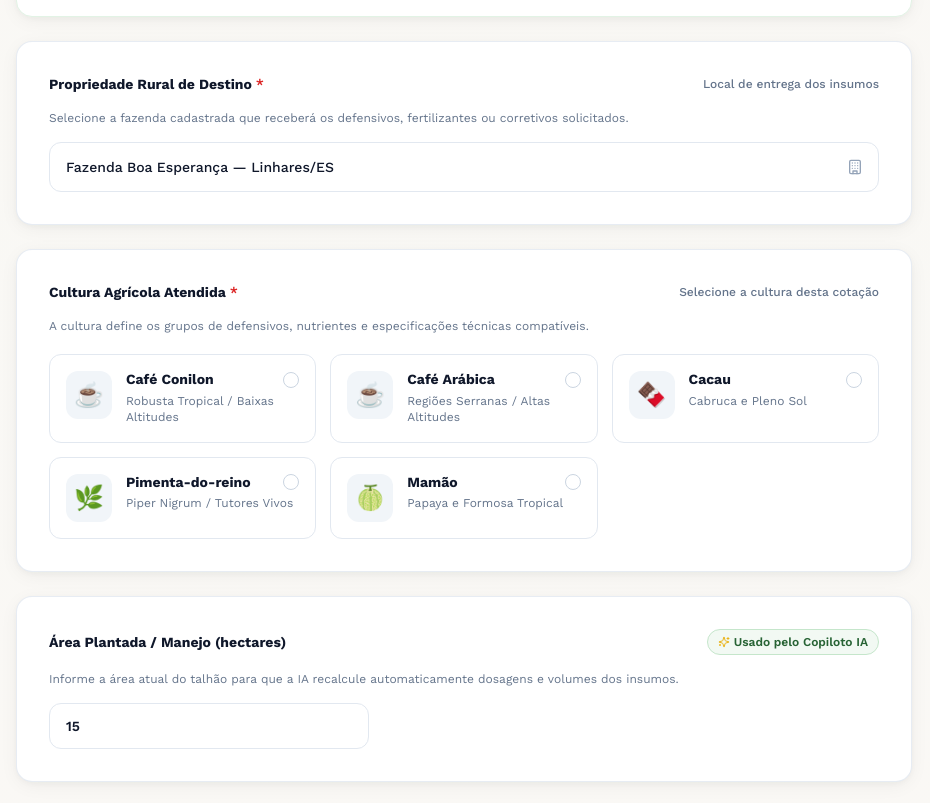
Test: US06 – Wizard de Cotação: Passo 1 – Destino e Cultura › deve bloquear quando a cultura estiver selecionada mas a fazenda estiver desmarcada
The image size is (930, 803).
(page scrolled)
Click the radio button labelled "☕ Café Conilon Robusta Tropical / Baixas Altitudes" at (183, 398), box [49, 354, 316, 442]
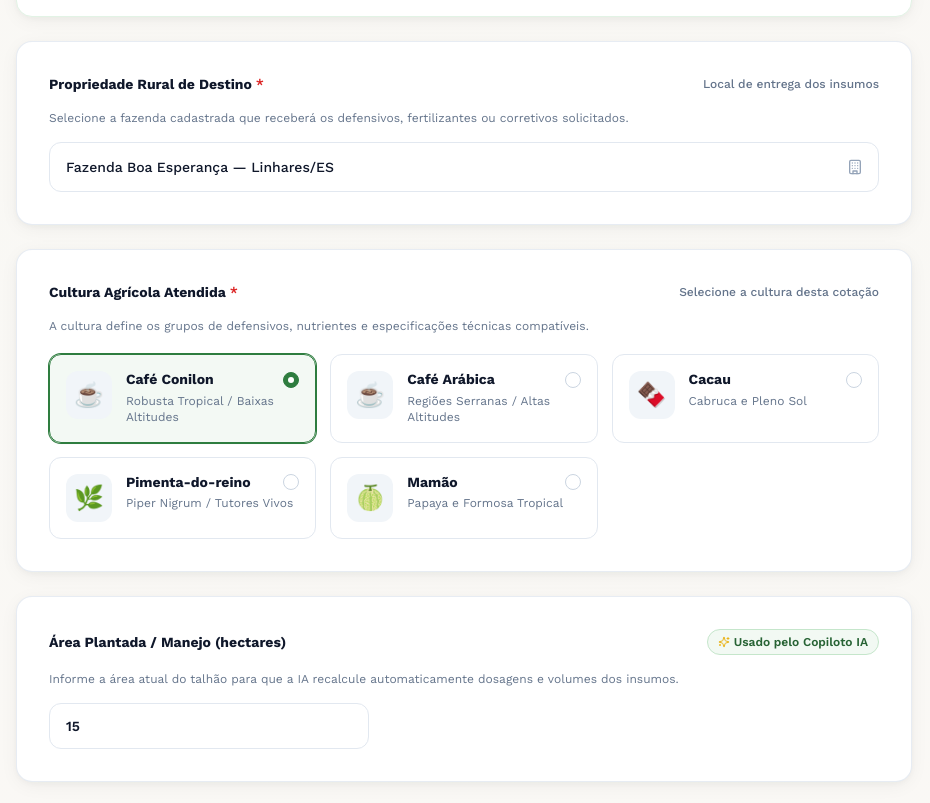
Select "Selecione uma fazenda cadastrada..." in the dropdown labelled "Propriedade Rural de Destino *" at (464, 167), box [49, 142, 879, 192]
(page scrolled)
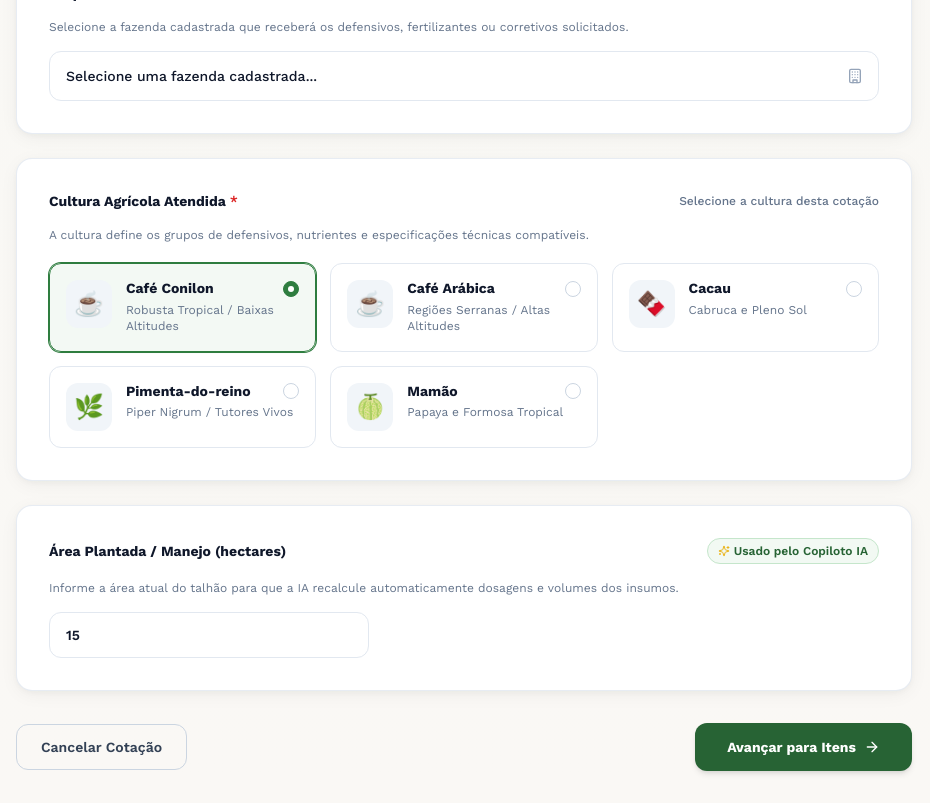
Click the button "Avançar para Itens" at (804, 746), box [695, 722, 912, 770]
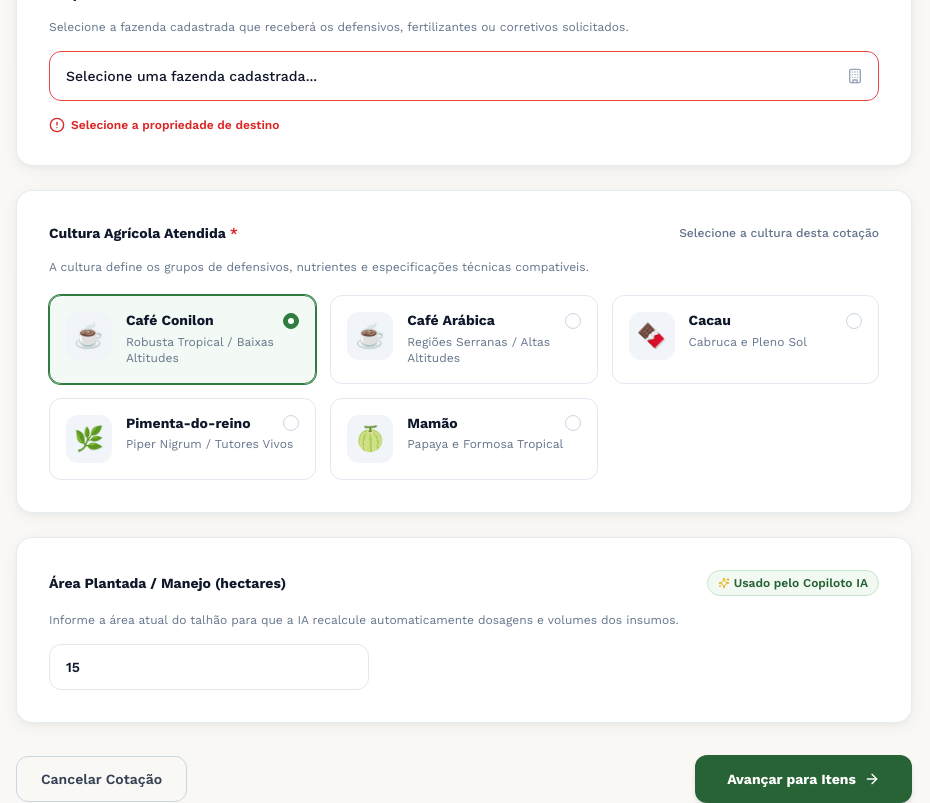
Expected: the text "Selecione a propriedade de destino" is shown, [71, 117, 280, 133]
Note: Ao selecionar a fazenda novamente, o erro inline deve sumir
Select "Fazenda Boa Esperança — Linhares/ES" in the dropdown labelled "Propriedade Rural de Destino *" at (464, 76), box [49, 51, 879, 101]
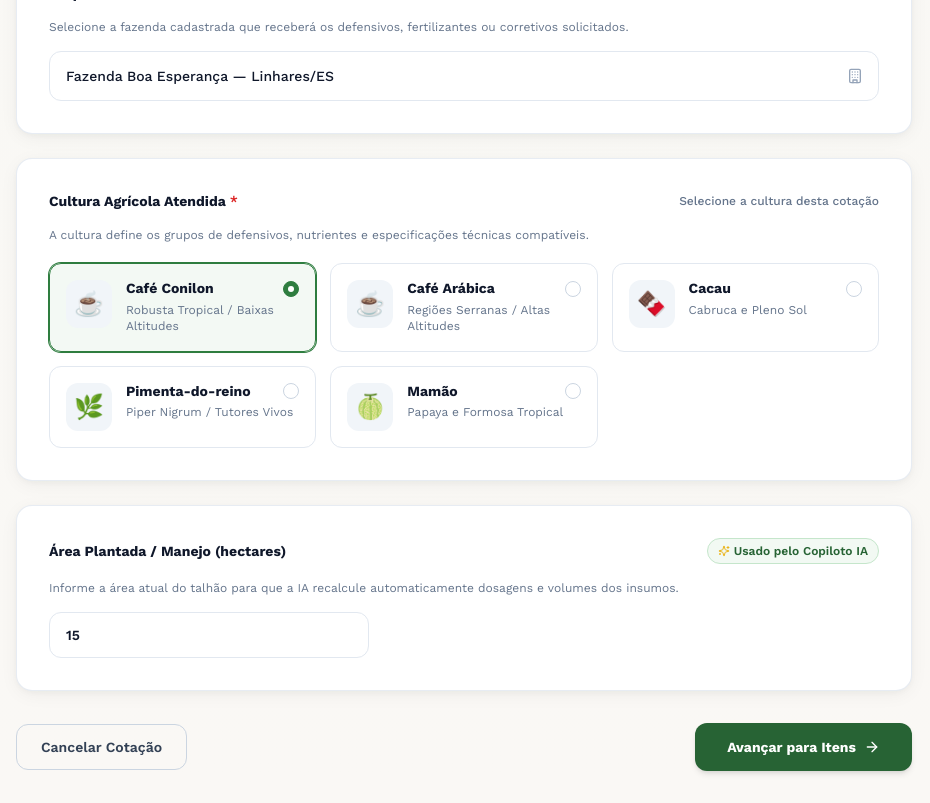
Expected: the text "Selecione a propriedade de destino" is gone
